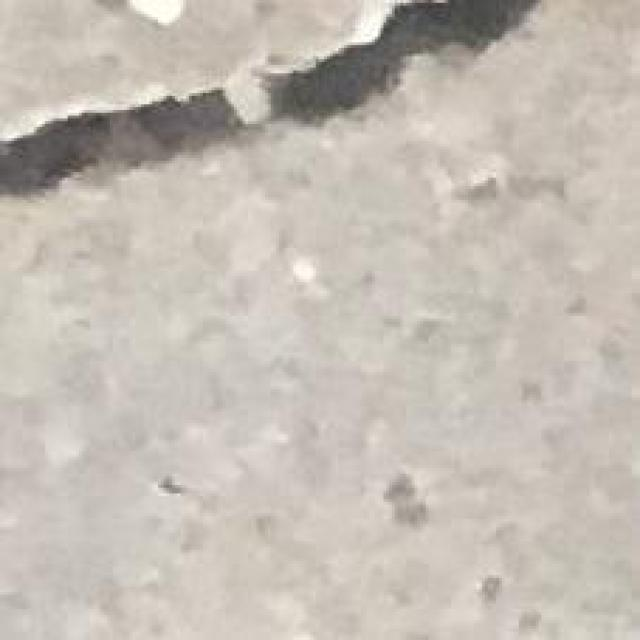Crack: (35, 0, 537, 242)
